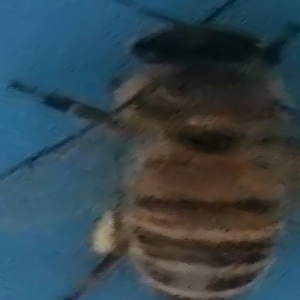bee: (18, 6, 300, 300)
